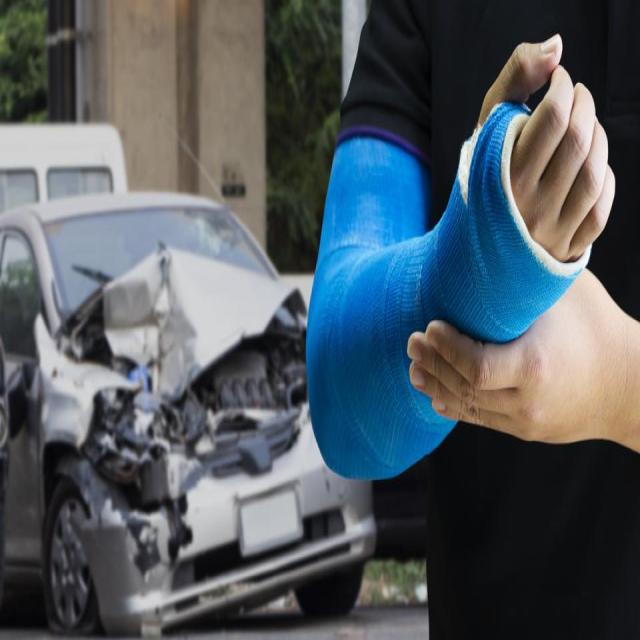accident: (0, 193, 375, 633)
